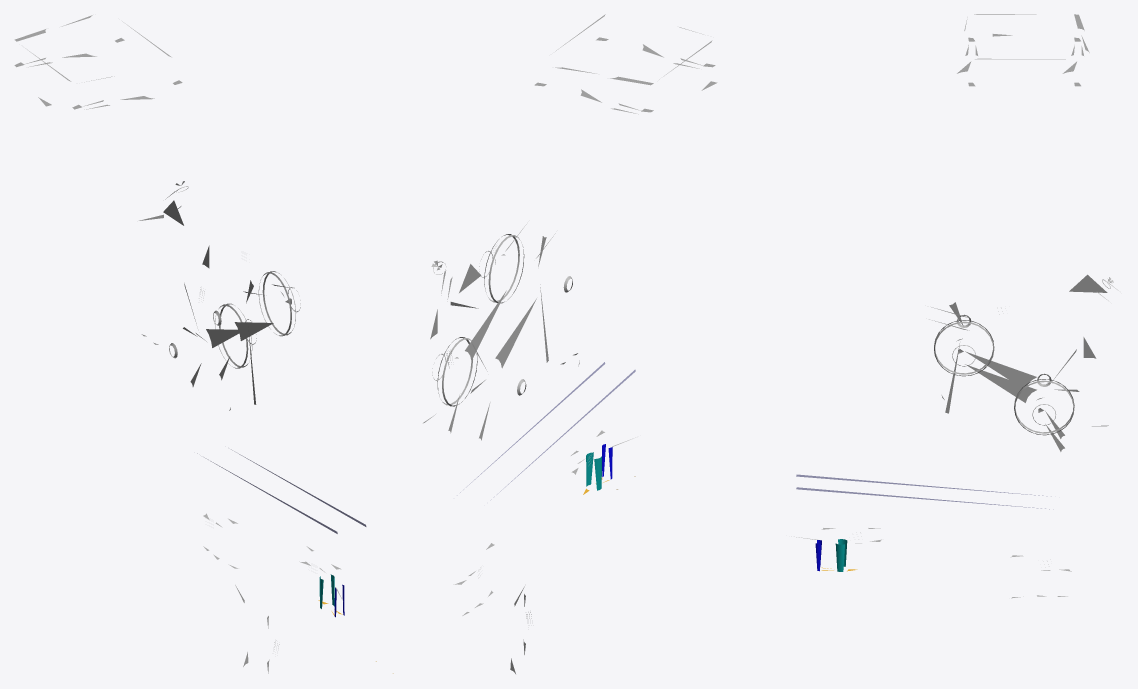
3 renders of one model, left to right at view 1: azimuth 30°, elevation 25°; view 2: azimuth 150°, elevation 25°; view 3: azimuth 270°, elevation 25°, orthographic. The views are drawn at different scales.
Parts seen in each view (by area): view 1: F19721000063102000142_001_zb_ub_auflage_42_fa (×2); view 2: F19721000063102000142_001_zb_ub_auflage_42_fa (×3); view 3: F19721000063102000142_001_zb_ub_auflage_42_fa (×3).
Part boxes in pixels (<box>): F19721000063102000142_001_zb_ub_auflage_42_fa (×2): <box>14,15,342,673</box>; F19721000063102000142_001_zb_ub_auflage_42_fa (×3): <box>423,14,717,673</box>; F19721000063102000142_001_zb_ub_auflage_42_fa (×3): <box>791,14,1118,598</box>.
Size of the model in its own units: 163 by 250 by 423.
